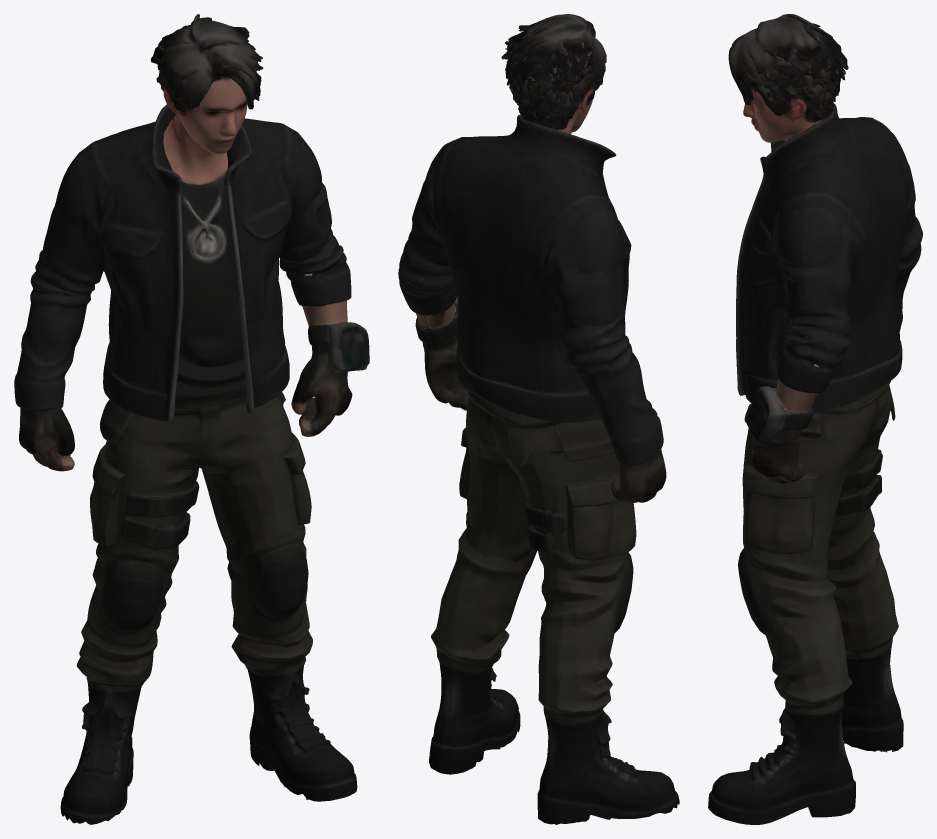
File: player.glb
The picture shows the model from 3 angles, left to right: view 1: azimuth 30°, elevation 25°; view 2: azimuth 150°, elevation 25°; view 3: azimuth 270°, elevation 25°; orthographic projection. The views are drawn at different scales.
Parts seen in each view (by area): view 1: world; view 2: world; view 3: world.
Part boxes in pixels (x1,y1,x2,y2): world: (14, 14, 369, 824); world: (398, 14, 679, 824); world: (708, 14, 922, 824).
Bounding box in the file's own units: 0.3133 × 0.7864 × 0.2047.
Materials: 1 (1 with a texture image).
